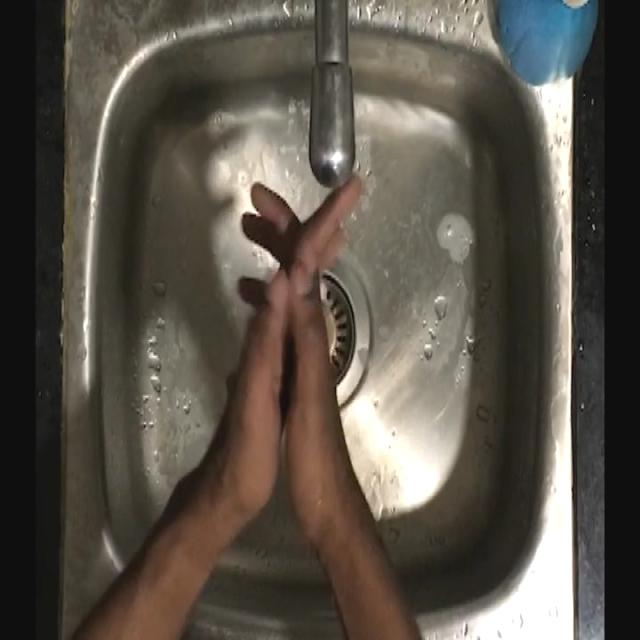step_3: (222, 160, 376, 505)
